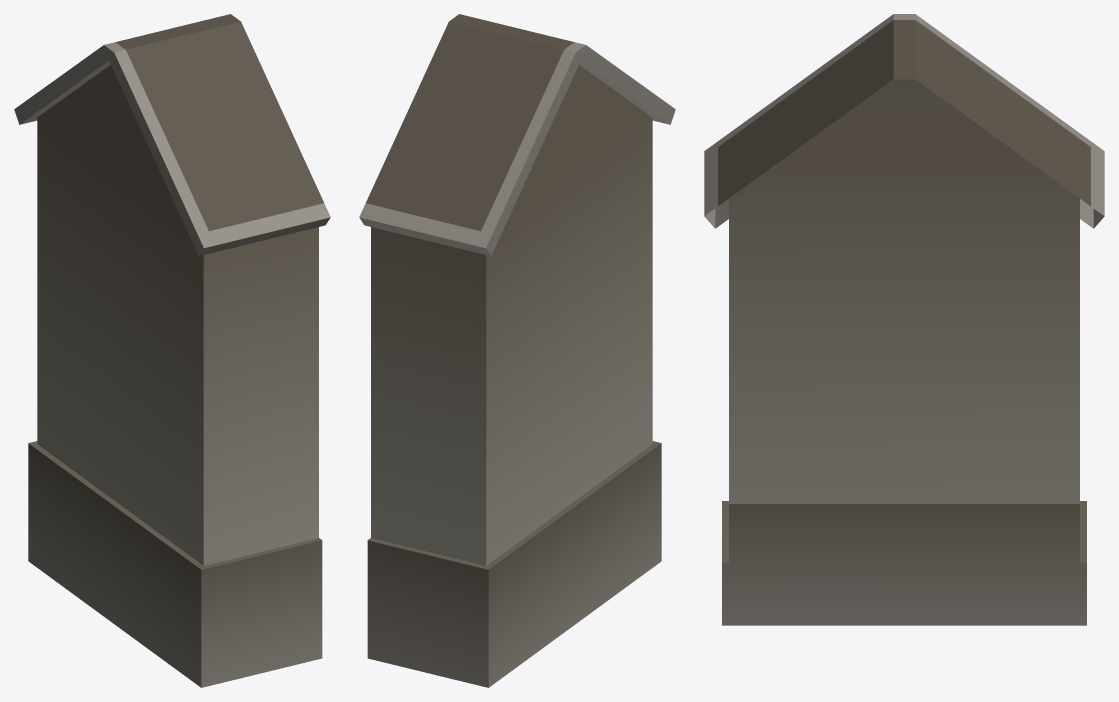
The model's file is Buffer-2Story_A-End.fbx.
The picture shows the model from 3 angles, left to right: view 1: azimuth 30°, elevation 25°; view 2: azimuth 150°, elevation 25°; view 3: azimuth 270°, elevation 25°; orthographic projection. The views are drawn at different scales.
Visible parts, largest first — view 1: Buffer-2Story_A-End; view 2: Buffer-2Story_A-End; view 3: Buffer-2Story_A-End.
Boxes of the visible parts, box(x1,y1,x2,y2) form: Buffer-2Story_A-End: box(14, 14, 330, 687); Buffer-2Story_A-End: box(359, 14, 675, 687); Buffer-2Story_A-End: box(704, 14, 1104, 625).
Bounding box in the file's own units: 220 × 957 × 570.
